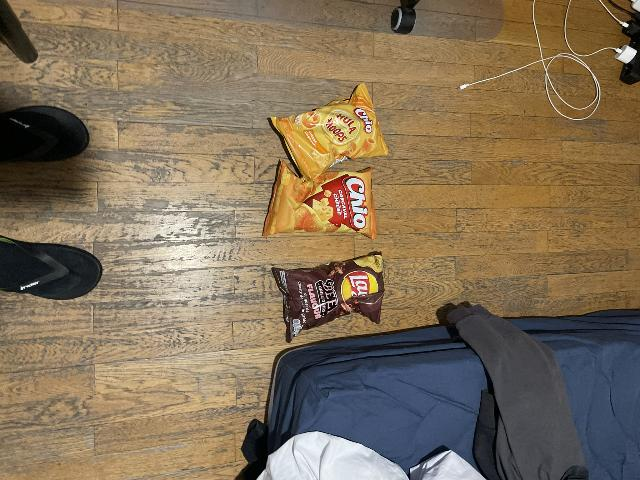Chio Cascaval 125g: (262, 159, 373, 238)
Chio Hula Hoops Cheese 70g: (270, 86, 384, 181)
Lays Beef Grilled Ribs 125g: (267, 254, 384, 336)
